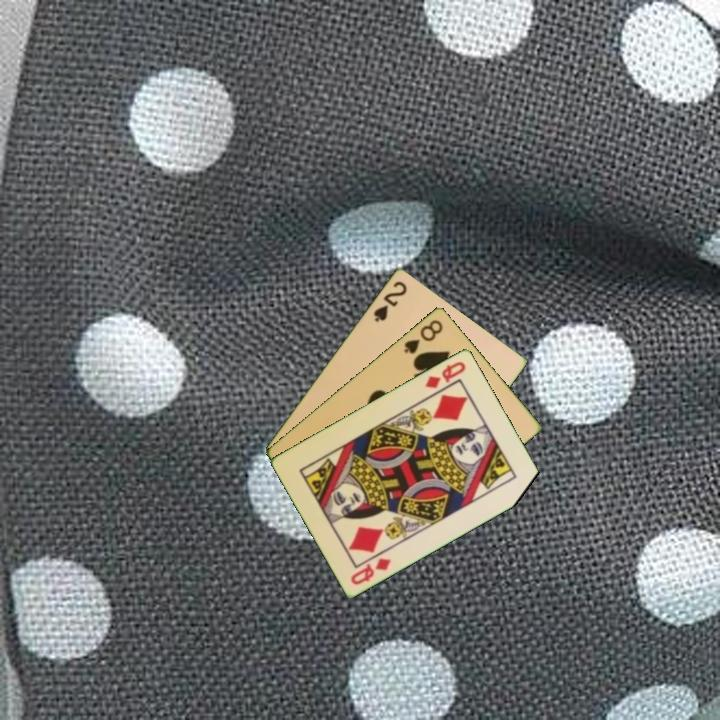2s: (370, 277, 410, 325)
8s: (401, 316, 446, 356)
Qd: (422, 357, 469, 391), (347, 554, 394, 588)
